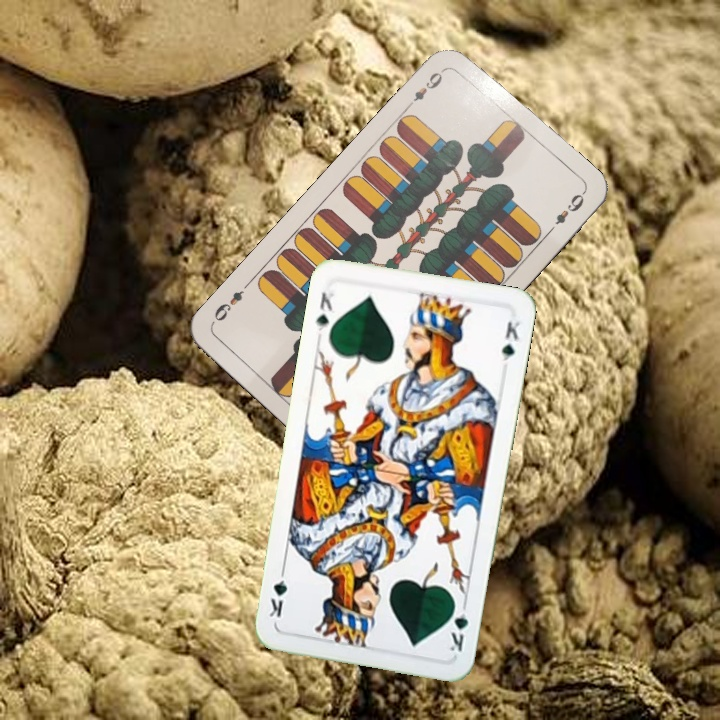E9: (404, 64, 449, 110)
GK: (445, 597, 471, 654), (312, 288, 337, 334)
